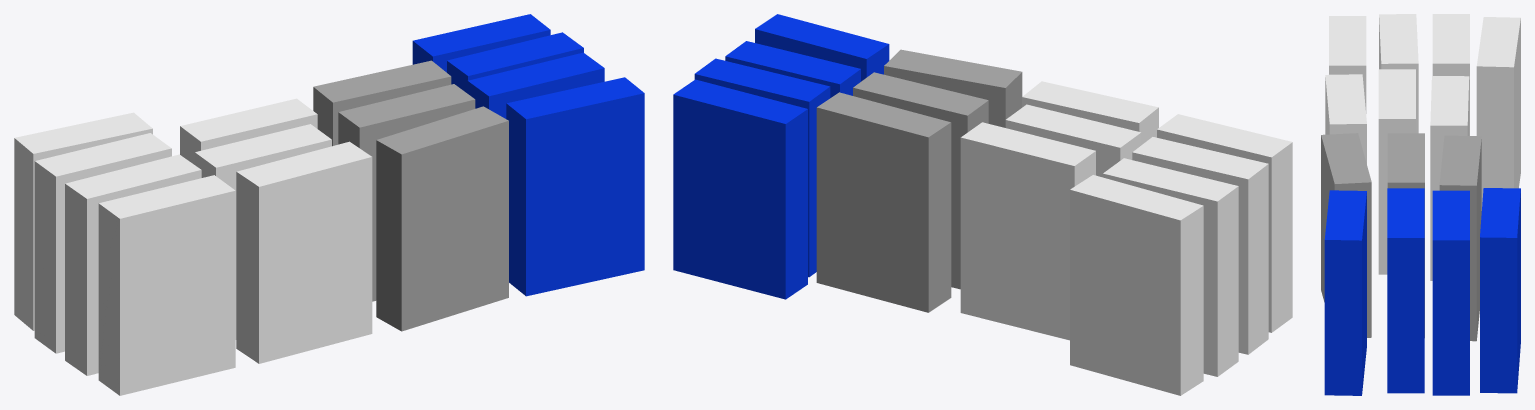
The model's file is Sugar_o0f6pn_Pack01.fbx.
3 views of the same model, side by side, from view 1: azimuth 30°, elevation 25°; view 2: azimuth 150°, elevation 25°; view 3: azimuth 270°, elevation 25° (orthographic). The views are drawn at different scales.
Visible parts, largest first — view 1: Sugar_o0f6pn_Pack01; view 2: Sugar_o0f6pn_Pack01; view 3: Sugar_o0f6pn_Pack01.
Part boxes in pixels (x1,y1,x2,y2): Sugar_o0f6pn_Pack01: (14, 14, 644, 395); Sugar_o0f6pn_Pack01: (673, 14, 1292, 395); Sugar_o0f6pn_Pack01: (1321, 14, 1520, 395).
Bounding box in the file's own units: 95.63 × 30.6 × 35.65.
